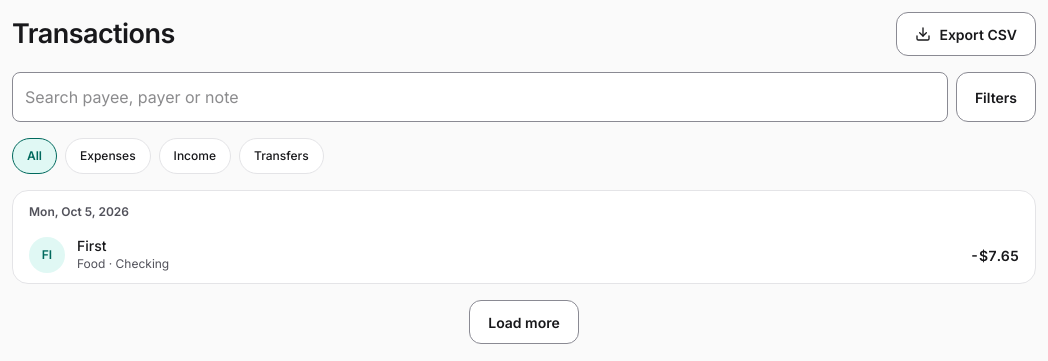
Scenario: the page › loads more, and does not show a row twice
What coordinates should you click on to do the following:
click the button "Load more"
I would click on:
 (524, 322)
Its box is [469,300,579,344].
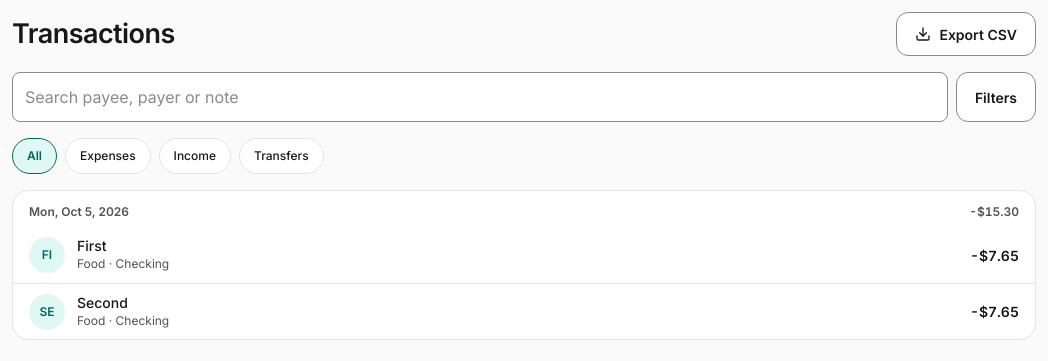
expect the number of buttons "FI First Food · Checking -$7.65" is 1: met, box [13,227,1035,283]
expect the button "Load more" is gone: met
